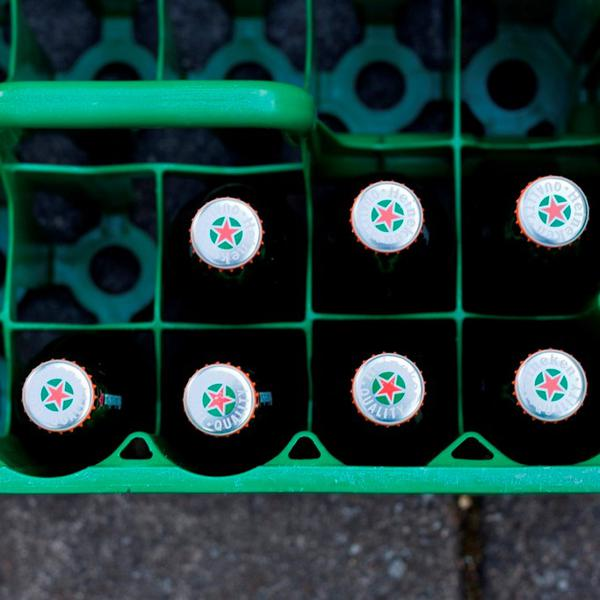heineken: (16, 354, 103, 440), (177, 357, 261, 444), (347, 348, 429, 430), (186, 195, 266, 276), (348, 179, 428, 258), (513, 348, 593, 425), (515, 176, 592, 247)
